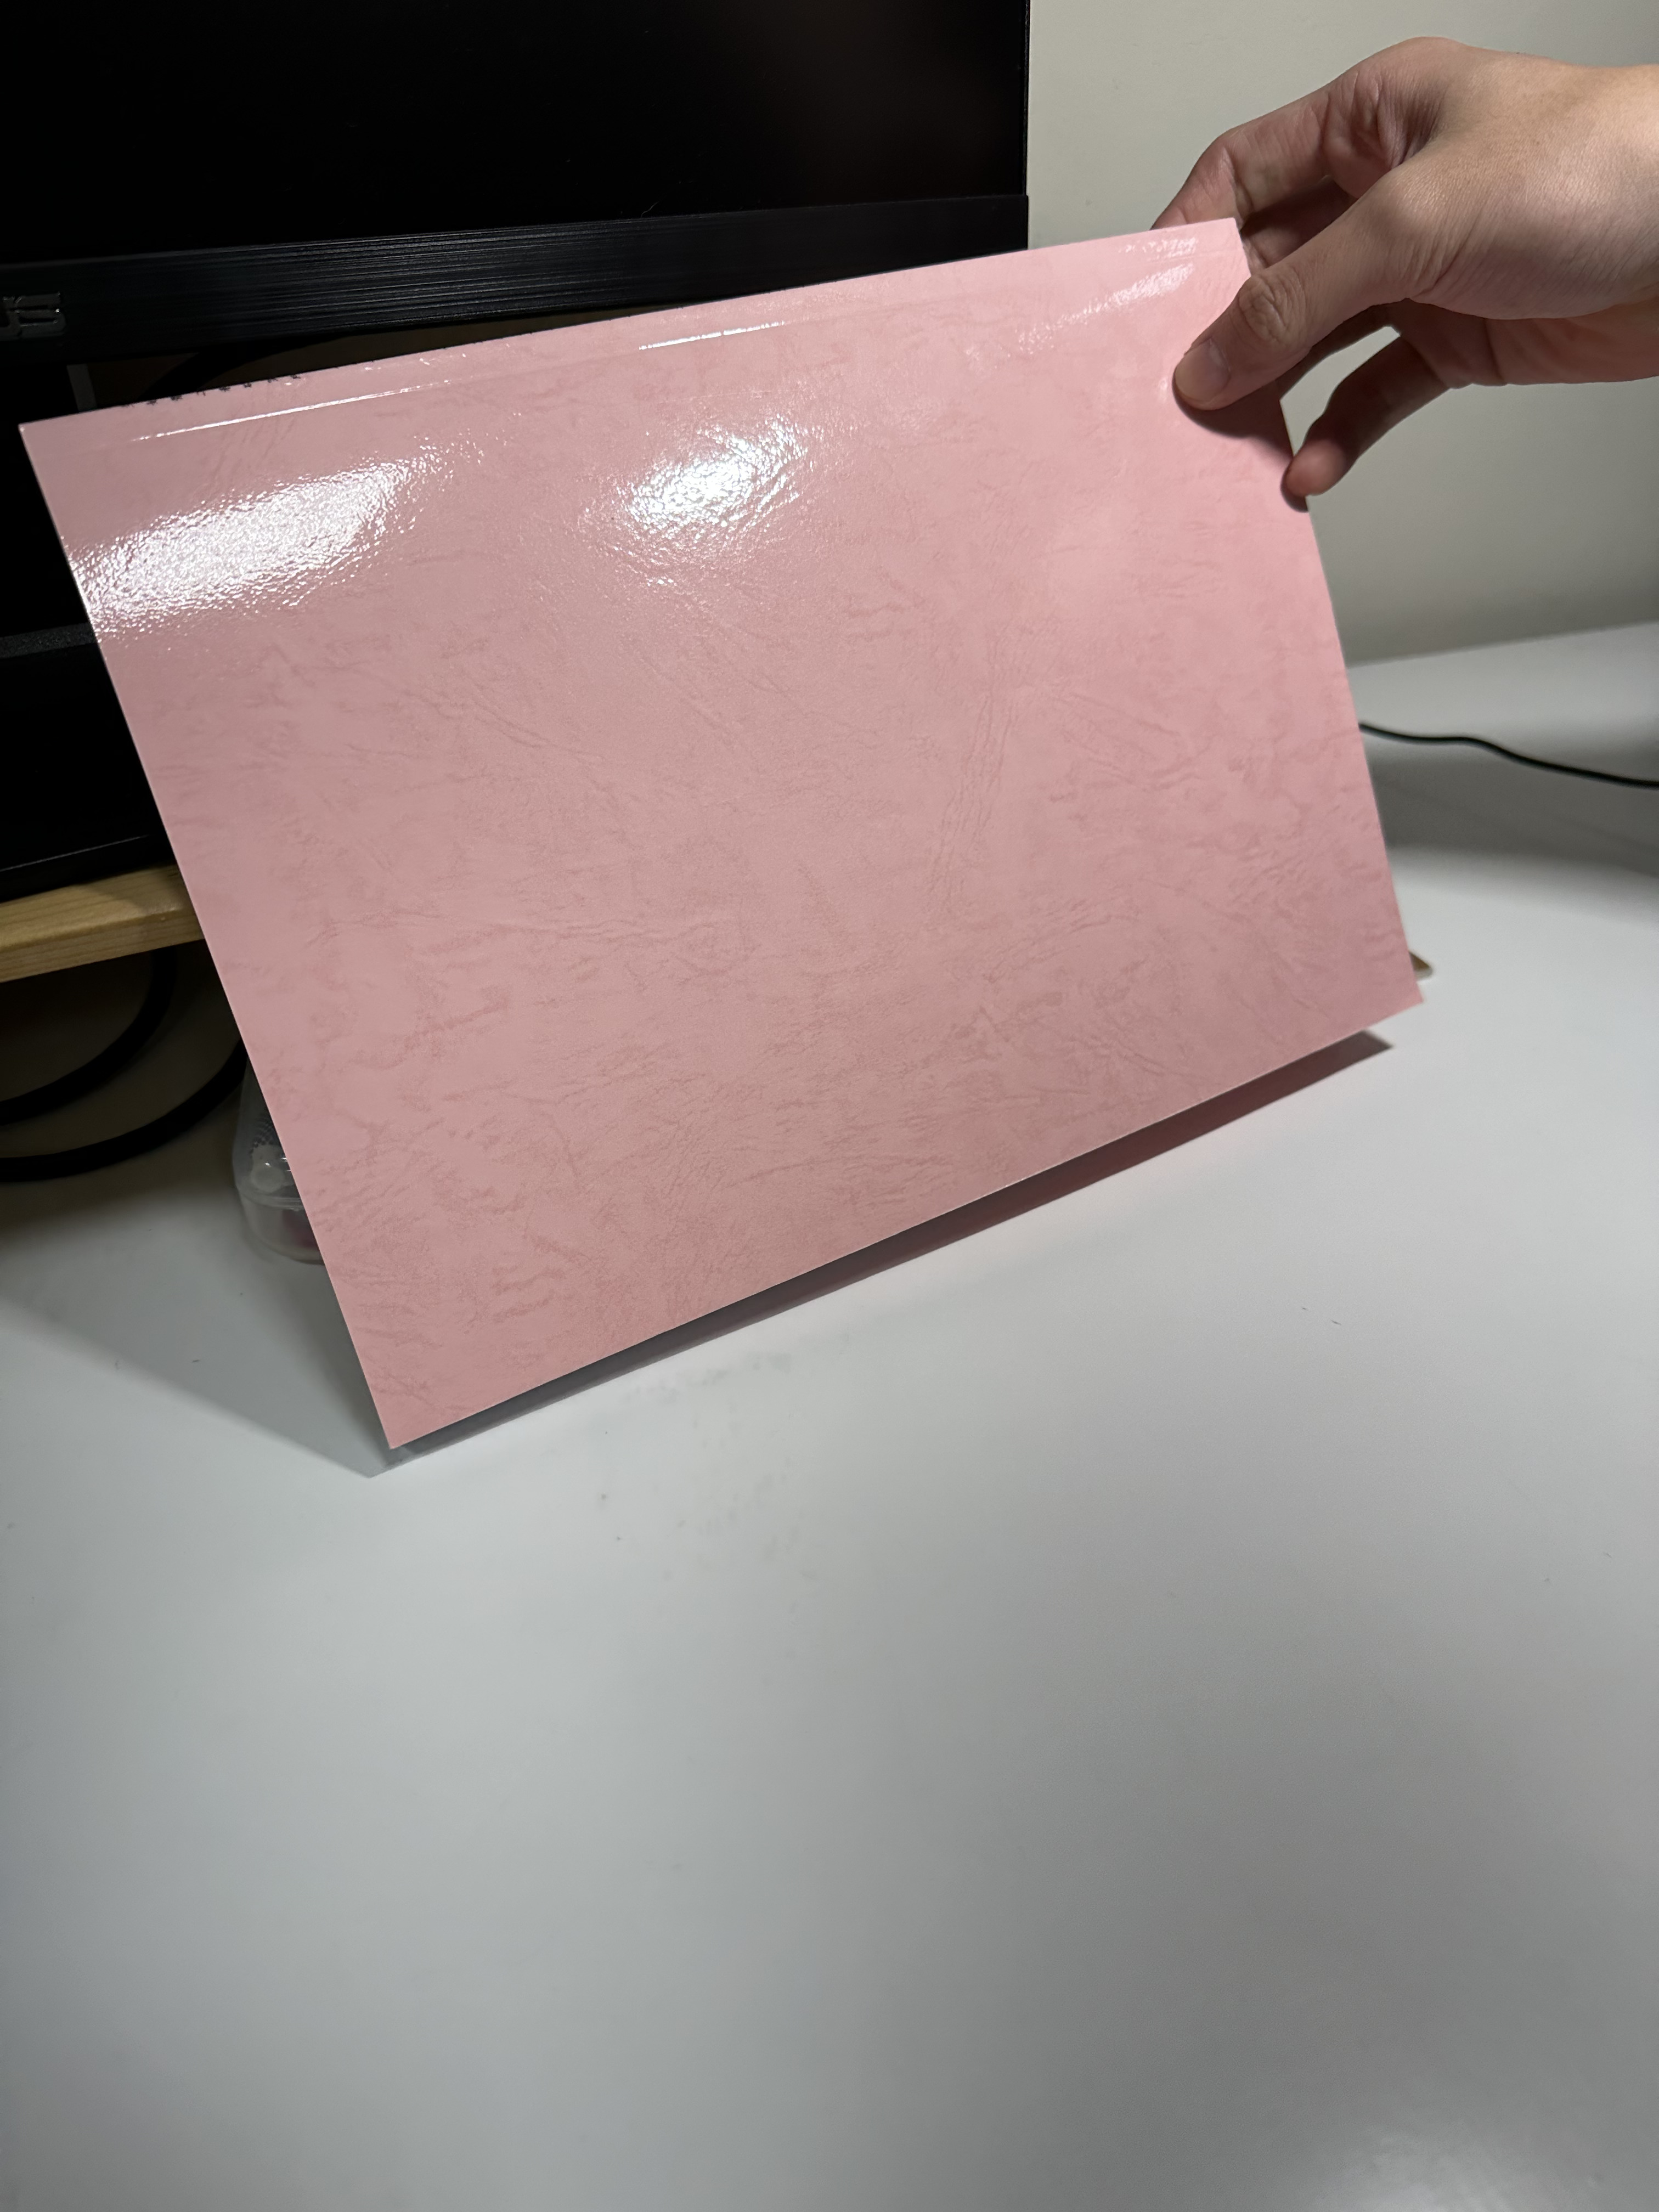book: (12, 216, 1431, 1456)
